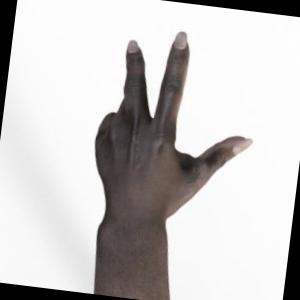scissors: (94, 33, 252, 300)
